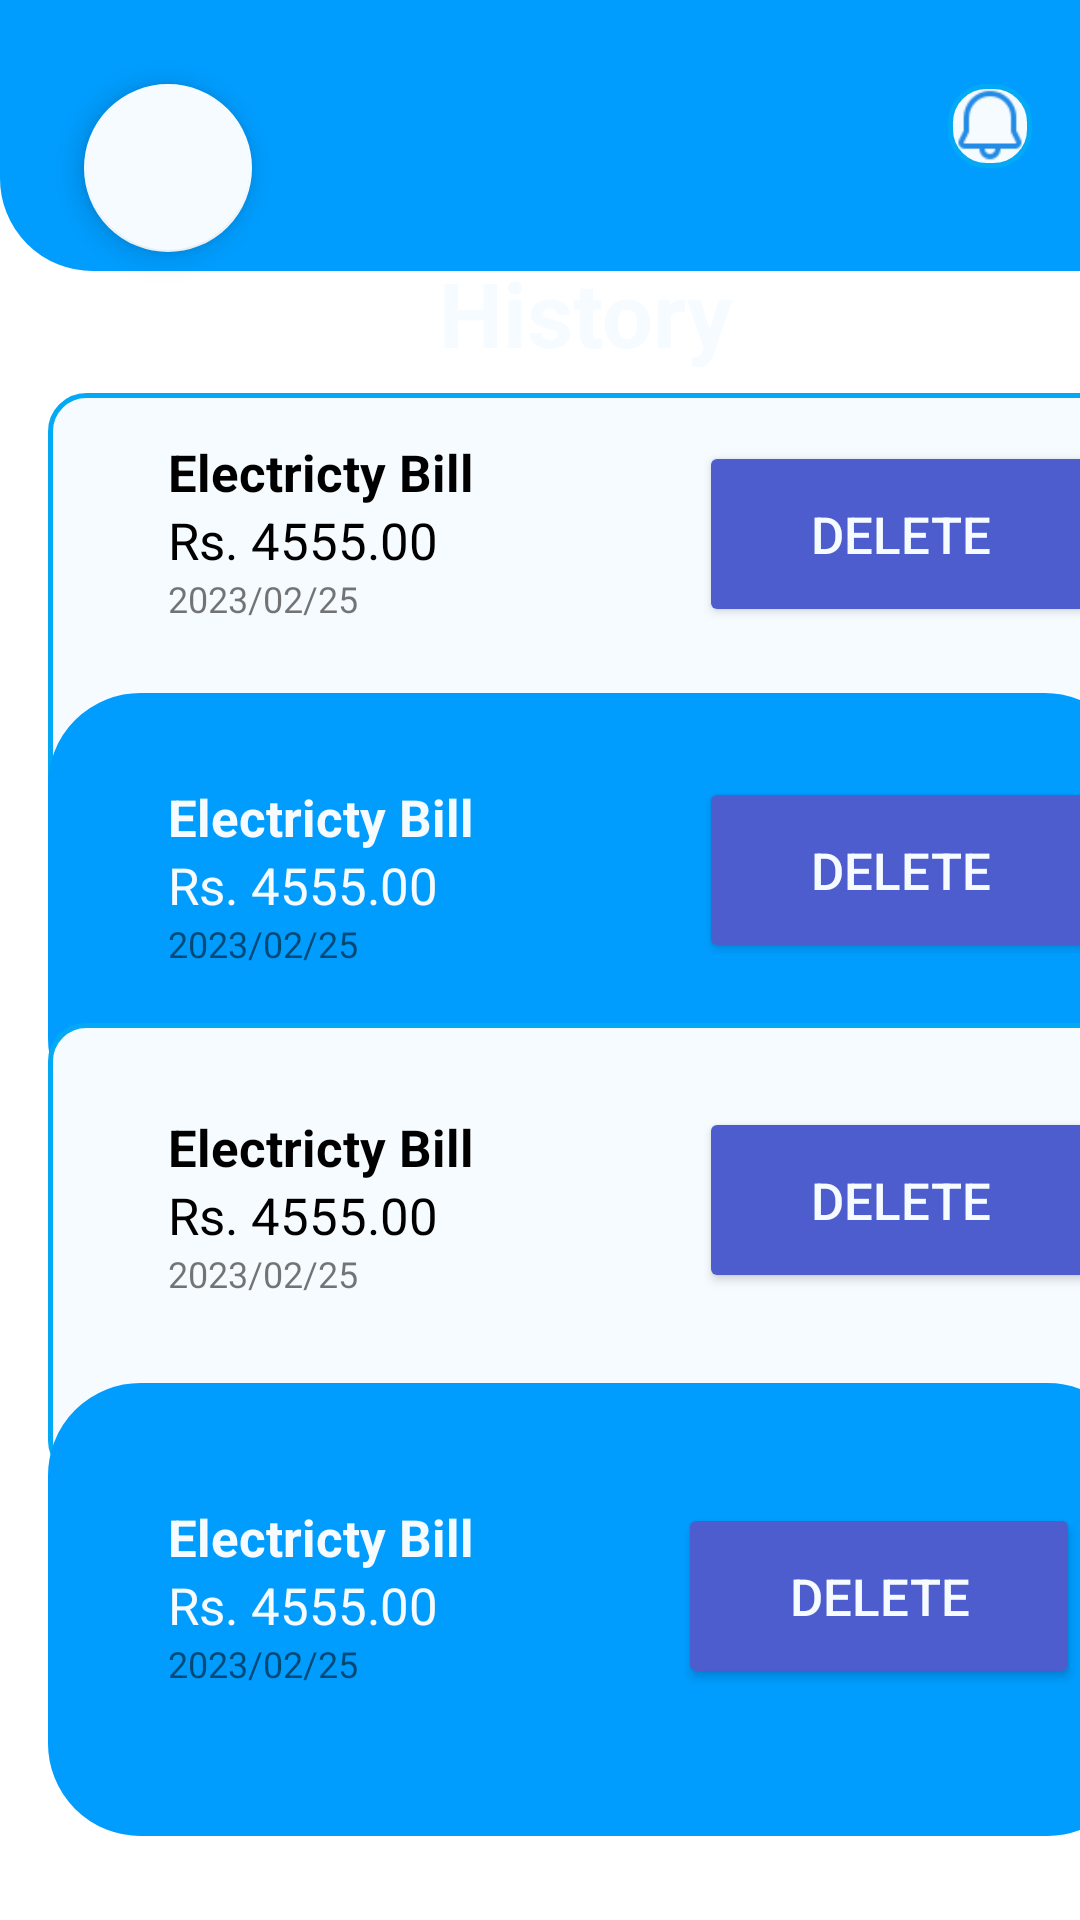

Icon click points for this 1080x1920 phone screenshot, format point (x, y):
notfy: point (990, 126)
